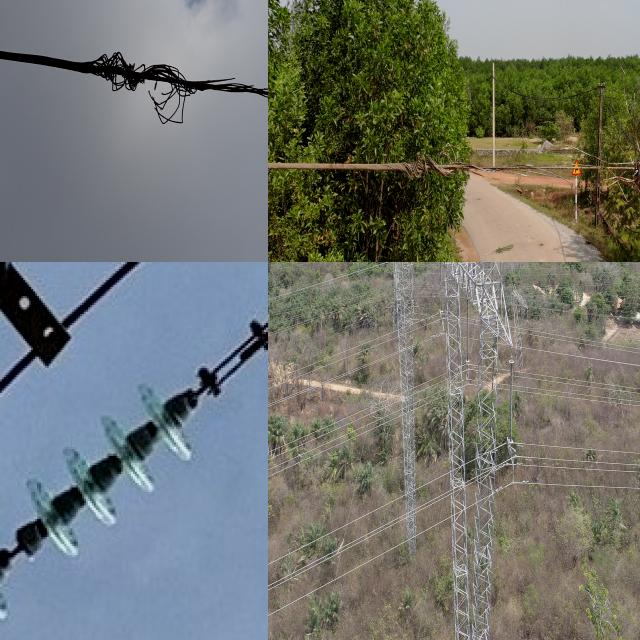杆塔: (437, 262, 522, 640), (378, 262, 427, 570)
正常绝缘子: (0, 361, 224, 627), (507, 358, 516, 448), (465, 295, 470, 364), (439, 262, 444, 314), (410, 264, 415, 302)
电缆破损: (80, 29, 268, 256), (404, 138, 640, 196)
绝缘子破损: (0, 514, 35, 574)
